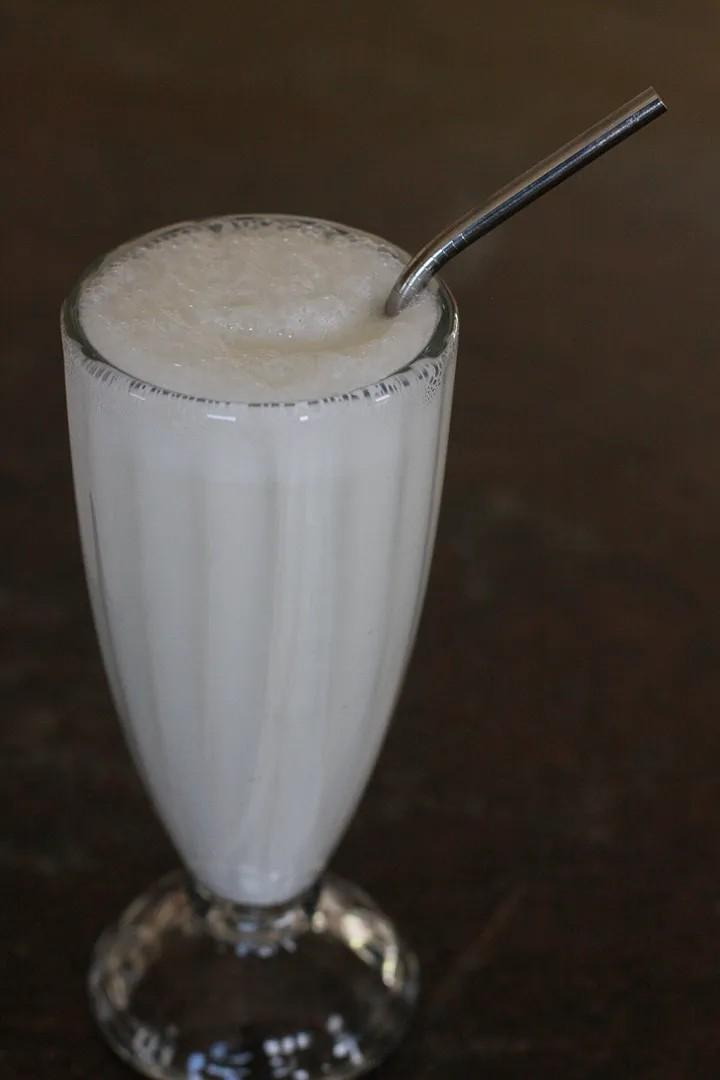Lassi: (63, 217, 456, 903)
